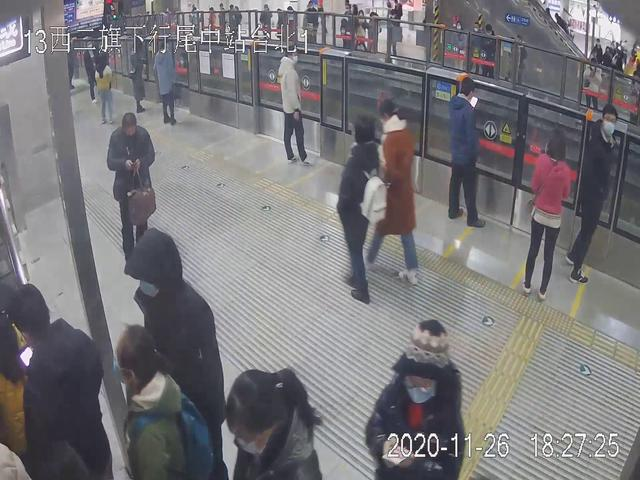person: (126, 227, 225, 480), (7, 281, 105, 480), (112, 321, 213, 480), (365, 313, 461, 480), (368, 97, 423, 282), (570, 103, 618, 279), (107, 108, 156, 271), (521, 121, 567, 292), (337, 116, 375, 312), (445, 71, 482, 223), (277, 45, 310, 164), (154, 37, 182, 124)
